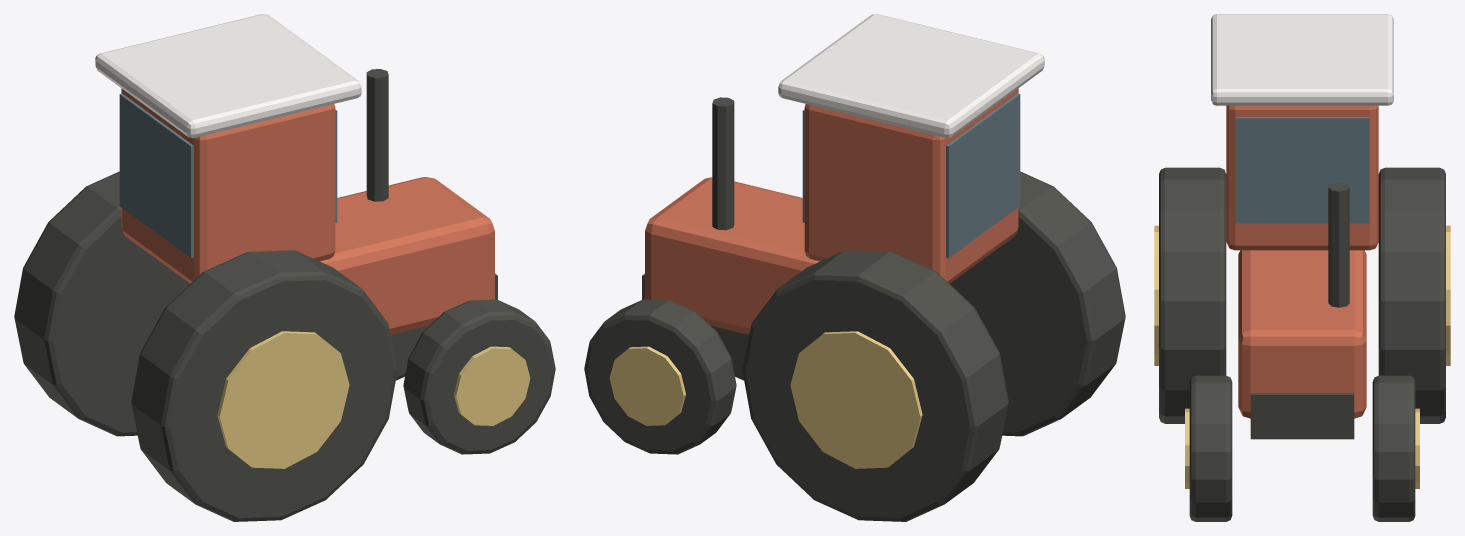
Rendered from trator.glb.
3 views of the same model, side by side, from view 1: azimuth 30°, elevation 25°; view 2: azimuth 150°, elevation 25°; view 3: azimuth 270°, elevation 25° (orthographic). The views are drawn at different scales.
Visible parts, largest first — view 1: agro_trator_00; view 2: agro_trator_00; view 3: agro_trator_00.
Boxes of the visible parts, x1,y1,x2,y2 form: agro_trator_00: [14, 14, 555, 521]; agro_trator_00: [584, 14, 1125, 521]; agro_trator_00: [1154, 14, 1450, 521].
Bounding box in the file's own units: 1.46 × 1.34 × 0.97.
